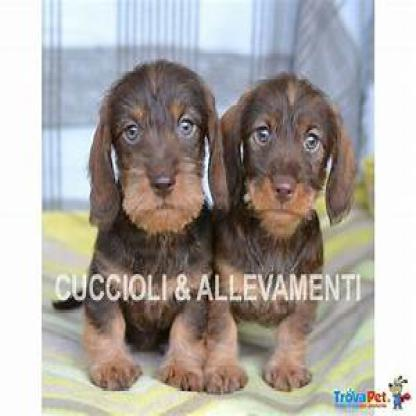dog: (83, 62, 218, 397), (214, 70, 356, 388)
